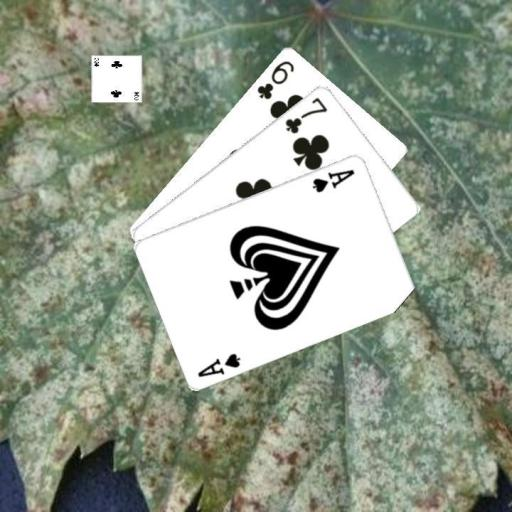6C: (253, 57, 296, 101)
7C: (282, 93, 329, 135)
AS: (194, 349, 243, 378), (310, 166, 357, 193)
